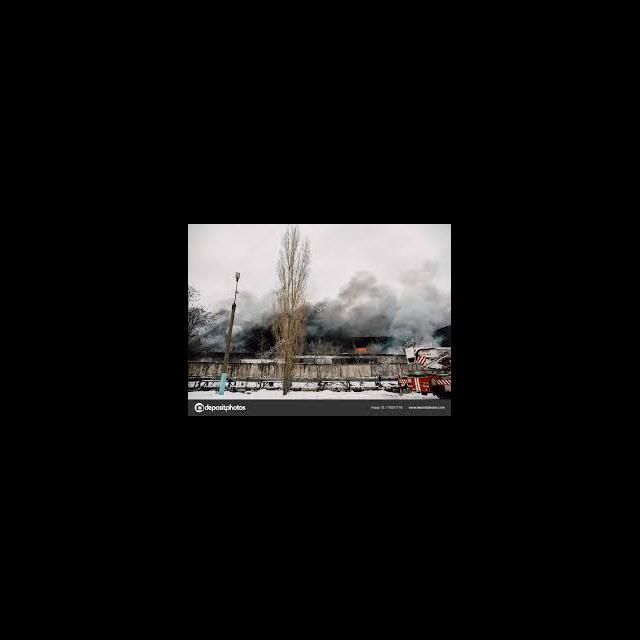Fire: (354, 346, 371, 354)
Smoke: (339, 268, 445, 335), (311, 302, 338, 335)
